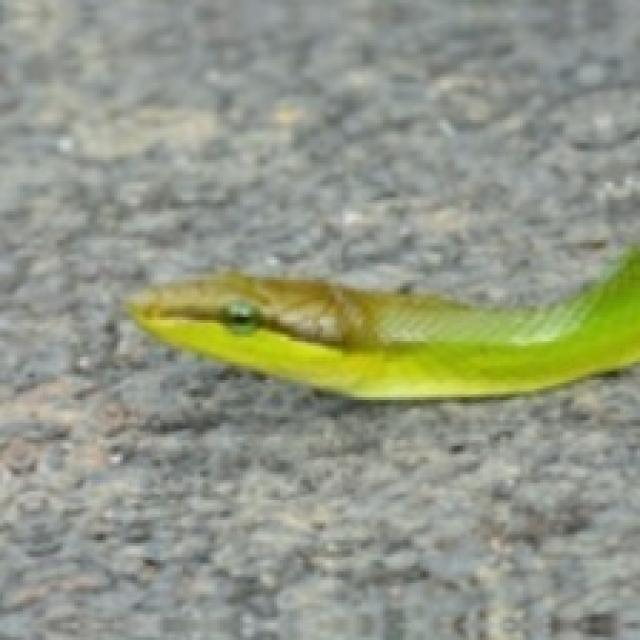red-tailed green ratsnake: (129, 247, 640, 398)
